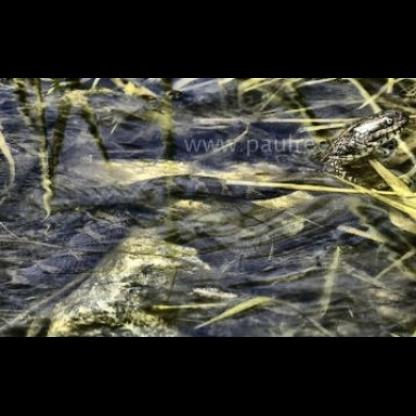Snake: (5, 110, 414, 268)
